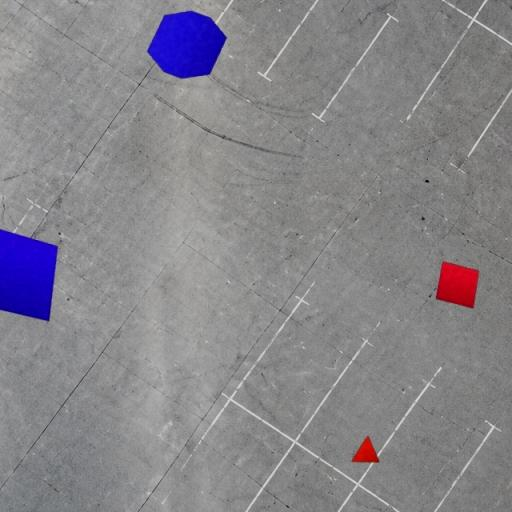BLUE_SQUARE: (0, 224, 58, 322)
RED_SQUARE: (435, 261, 480, 309)
